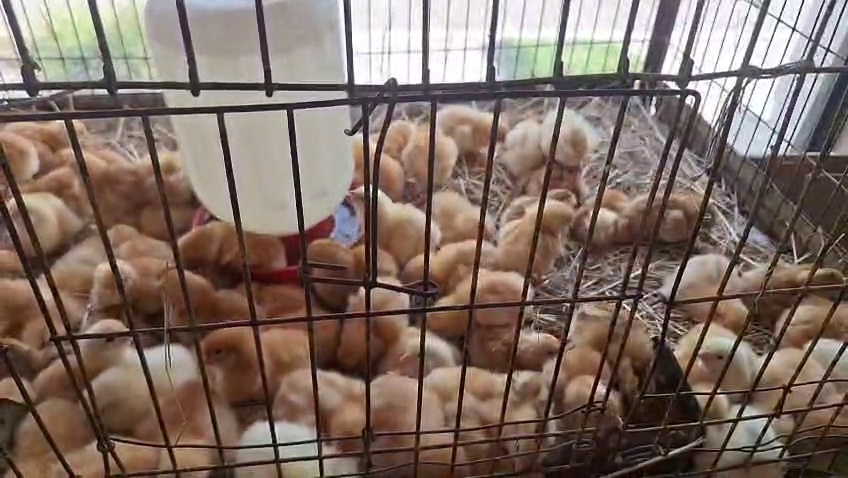Pollo: (359, 363, 469, 474), (576, 291, 670, 408), (189, 315, 315, 395), (83, 341, 195, 430), (341, 167, 435, 266), (262, 359, 368, 445), (527, 335, 633, 420), (220, 411, 354, 477), (151, 382, 238, 478), (497, 358, 572, 469), (697, 388, 789, 478), (283, 236, 398, 303), (743, 248, 848, 321), (739, 320, 804, 436), (497, 187, 576, 280), (330, 283, 418, 366), (657, 249, 751, 325), (675, 316, 764, 395), (34, 323, 132, 394), (75, 262, 187, 324), (7, 394, 89, 478), (63, 150, 157, 221), (53, 227, 173, 281), (177, 213, 276, 277), (410, 272, 534, 322), (752, 280, 847, 344), (46, 426, 161, 477), (776, 370, 845, 454), (125, 147, 198, 225), (0, 272, 72, 349), (631, 183, 711, 250), (772, 320, 848, 390), (326, 136, 407, 201), (414, 100, 506, 157), (410, 185, 488, 251), (0, 118, 93, 172), (1, 195, 77, 260), (462, 308, 555, 360), (159, 287, 267, 330), (216, 275, 315, 319), (368, 324, 455, 374), (17, 149, 86, 207), (508, 149, 585, 199), (404, 119, 461, 183), (472, 432, 551, 478), (570, 176, 619, 249), (502, 111, 555, 176), (541, 109, 600, 167), (414, 244, 492, 280), (481, 193, 533, 245), (368, 109, 407, 164)
